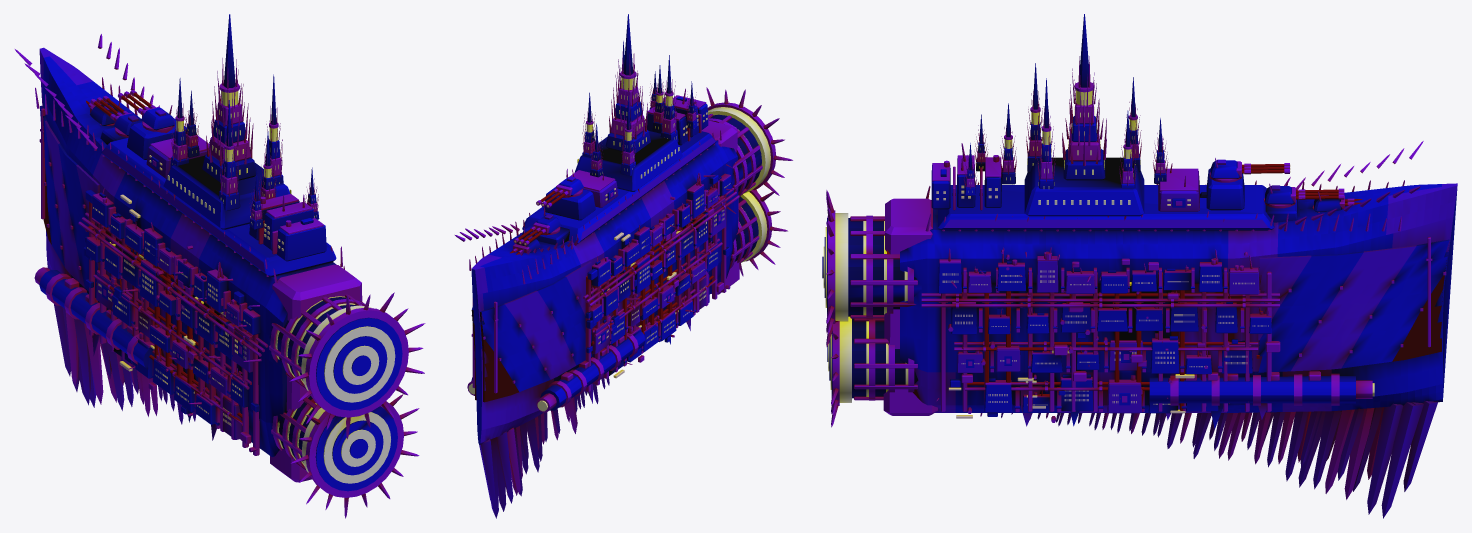
File: pygmaei_revenant_command_ship.fbx
3 views of the same model, side by side, from view 1: azimuth 30°, elevation 25°; view 2: azimuth 150°, elevation 25°; view 3: azimuth 270°, elevation 25° (orthographic). The views are drawn at different scales.
Visible parts, largest first — view 1: pygmaei_revenant_command_ship; view 2: pygmaei_revenant_command_ship; view 3: pygmaei_revenant_command_ship.
Part boxes in pixels (bbox=[...]): pygmaei_revenant_command_ship: bbox=[15, 14, 425, 518]; pygmaei_revenant_command_ship: bbox=[455, 14, 792, 518]; pygmaei_revenant_command_ship: bbox=[822, 14, 1457, 518].
Bounding box in the file's own units: 0.6328 × 2.24 × 2.57.
